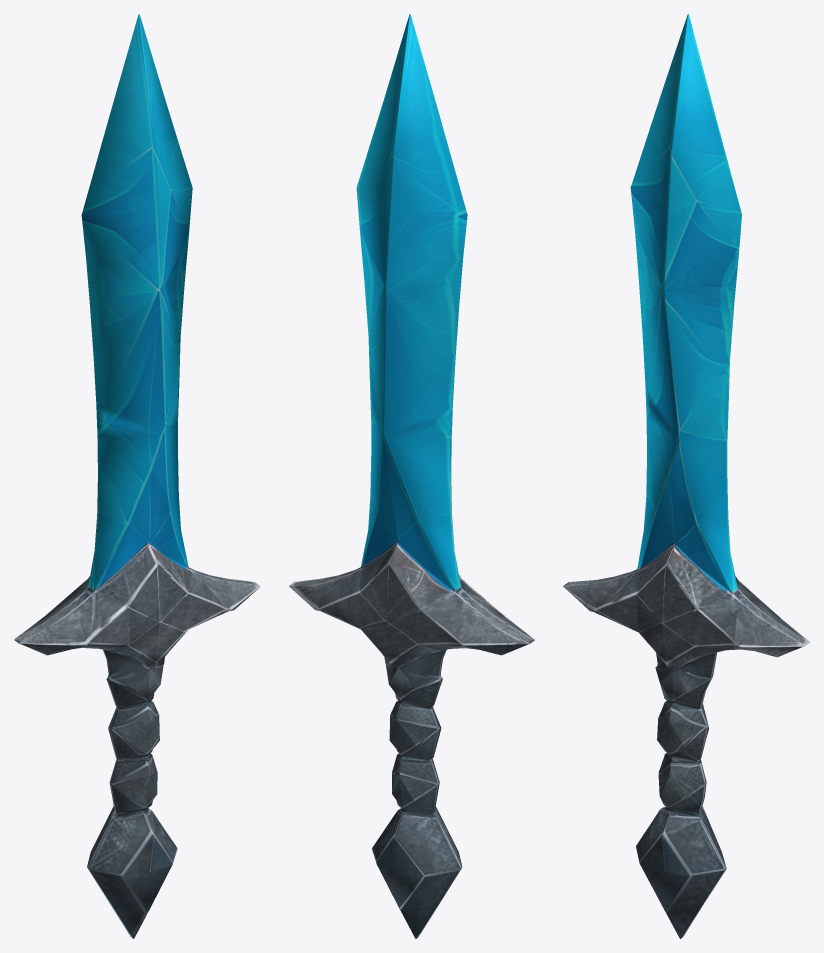
File: crystalSword.fbx
3 renders of one model, left to right at view 1: azimuth 30°, elevation 25°; view 2: azimuth 150°, elevation 25°; view 3: azimuth 330°, elevation 25°, orthographic.
Visible parts, largest first — view 1: tripo_node_a472fd5f; view 2: tripo_node_a472fd5f; view 3: tripo_node_a472fd5f.
Boxes of the visible parts, bbox=[...] form: tripo_node_a472fd5f: bbox=[14, 14, 260, 938]; tripo_node_a472fd5f: bbox=[289, 14, 534, 938]; tripo_node_a472fd5f: bbox=[563, 14, 809, 938].
Size of the model in its own units: 0.2729 by 0.9995 by 0.0942.
